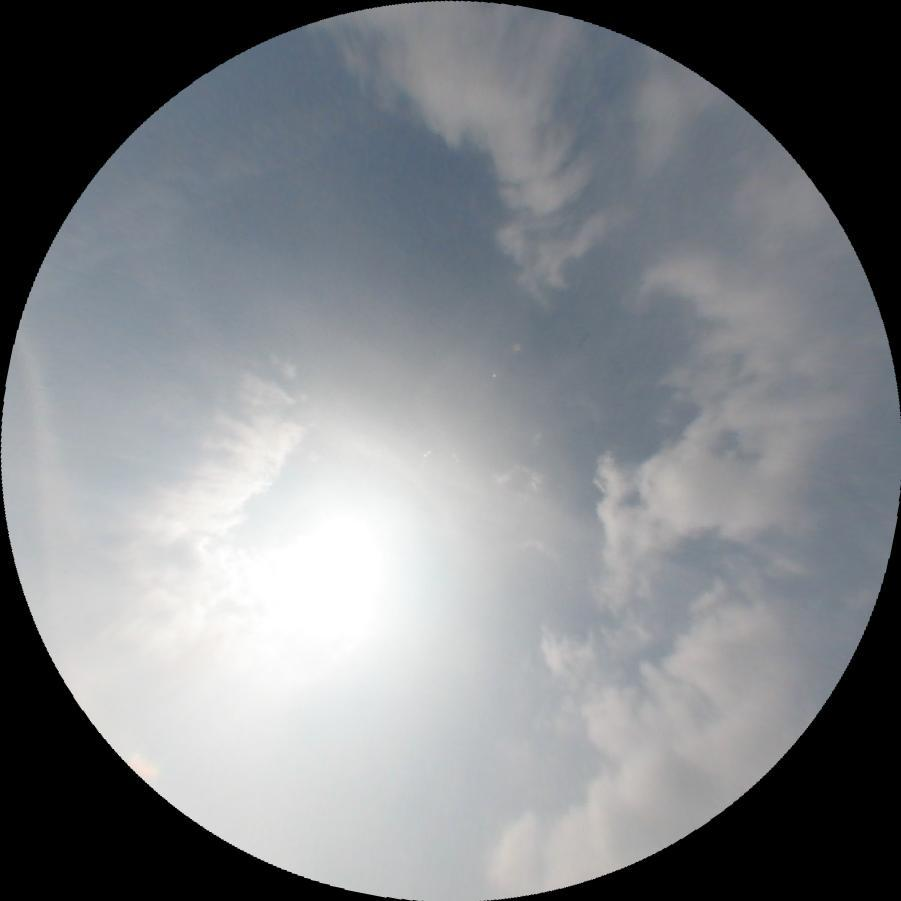sun: (305, 475, 454, 633)
